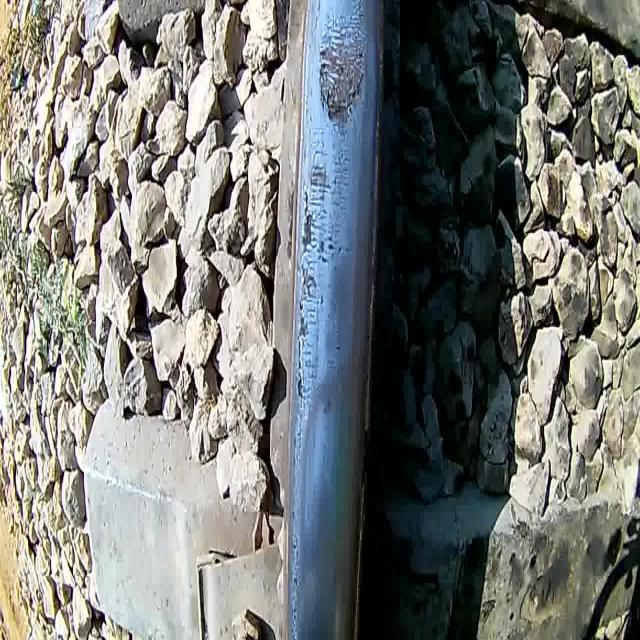Squats: (294, 142, 357, 462), (308, 2, 378, 140)
